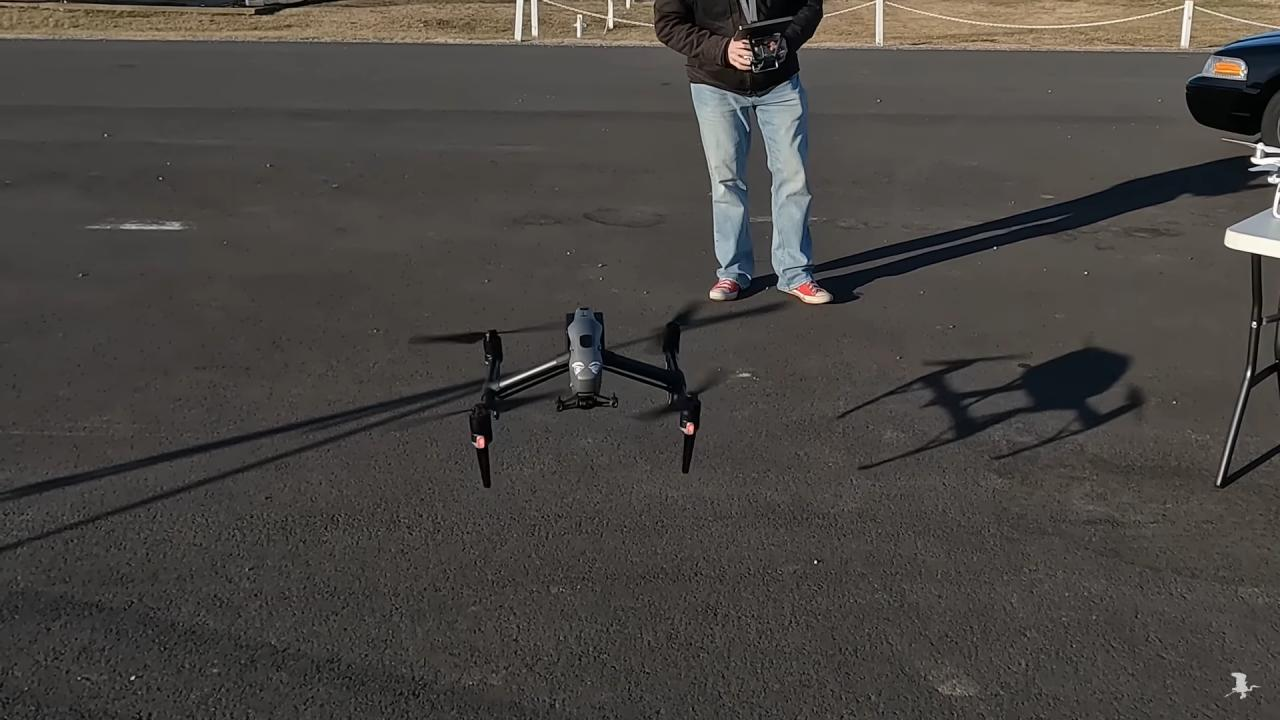Drone: (401, 290, 729, 505)
